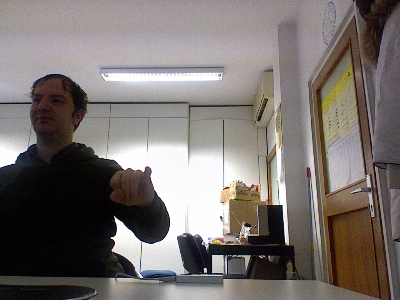小指: (108, 164, 155, 209)
